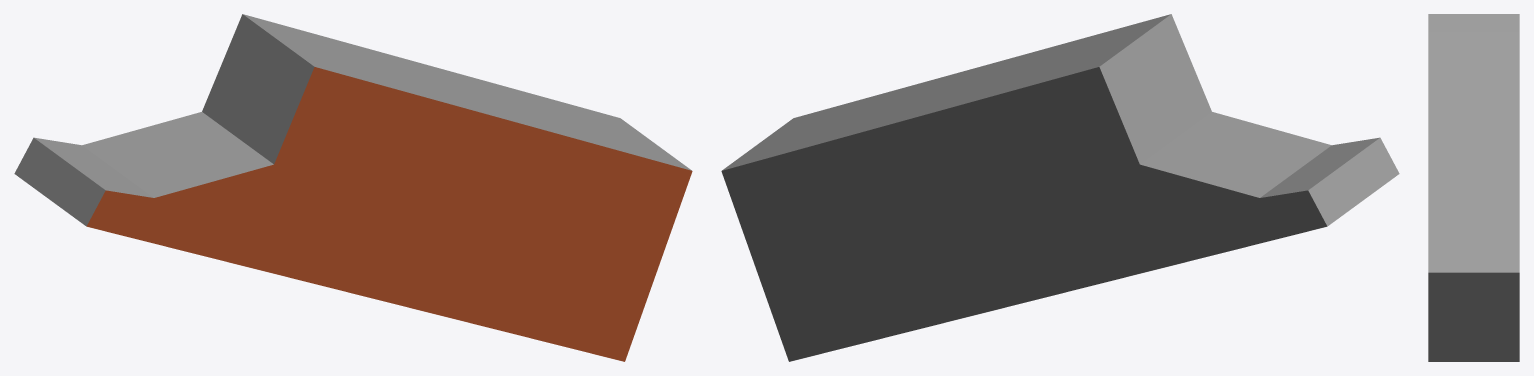
Rendered from construction_4962_assumed_A_Casa_h6m.obj.
3 renders of one model, left to right at view 1: azimuth 30°, elevation 25°; view 2: azimuth 150°, elevation 25°; view 3: azimuth 270°, elevation 25°, orthographic. The views are drawn at different scales.
Parts seen in each view (by area): view 1: construction_4962_assumed_A_Casa; view 2: construction_4962_assumed_A_Casa; view 3: construction_4962_assumed_A_Casa.
Boxes of the visible parts, x1=… form: construction_4962_assumed_A_Casa: x1=14, y1=14, x2=692, y2=361; construction_4962_assumed_A_Casa: x1=721, y1=14, x2=1399, y2=361; construction_4962_assumed_A_Casa: x1=1428, y1=14, x2=1519, y2=361.
Bounding box in the file's own units: 29.1 × 17.02 × 6.
